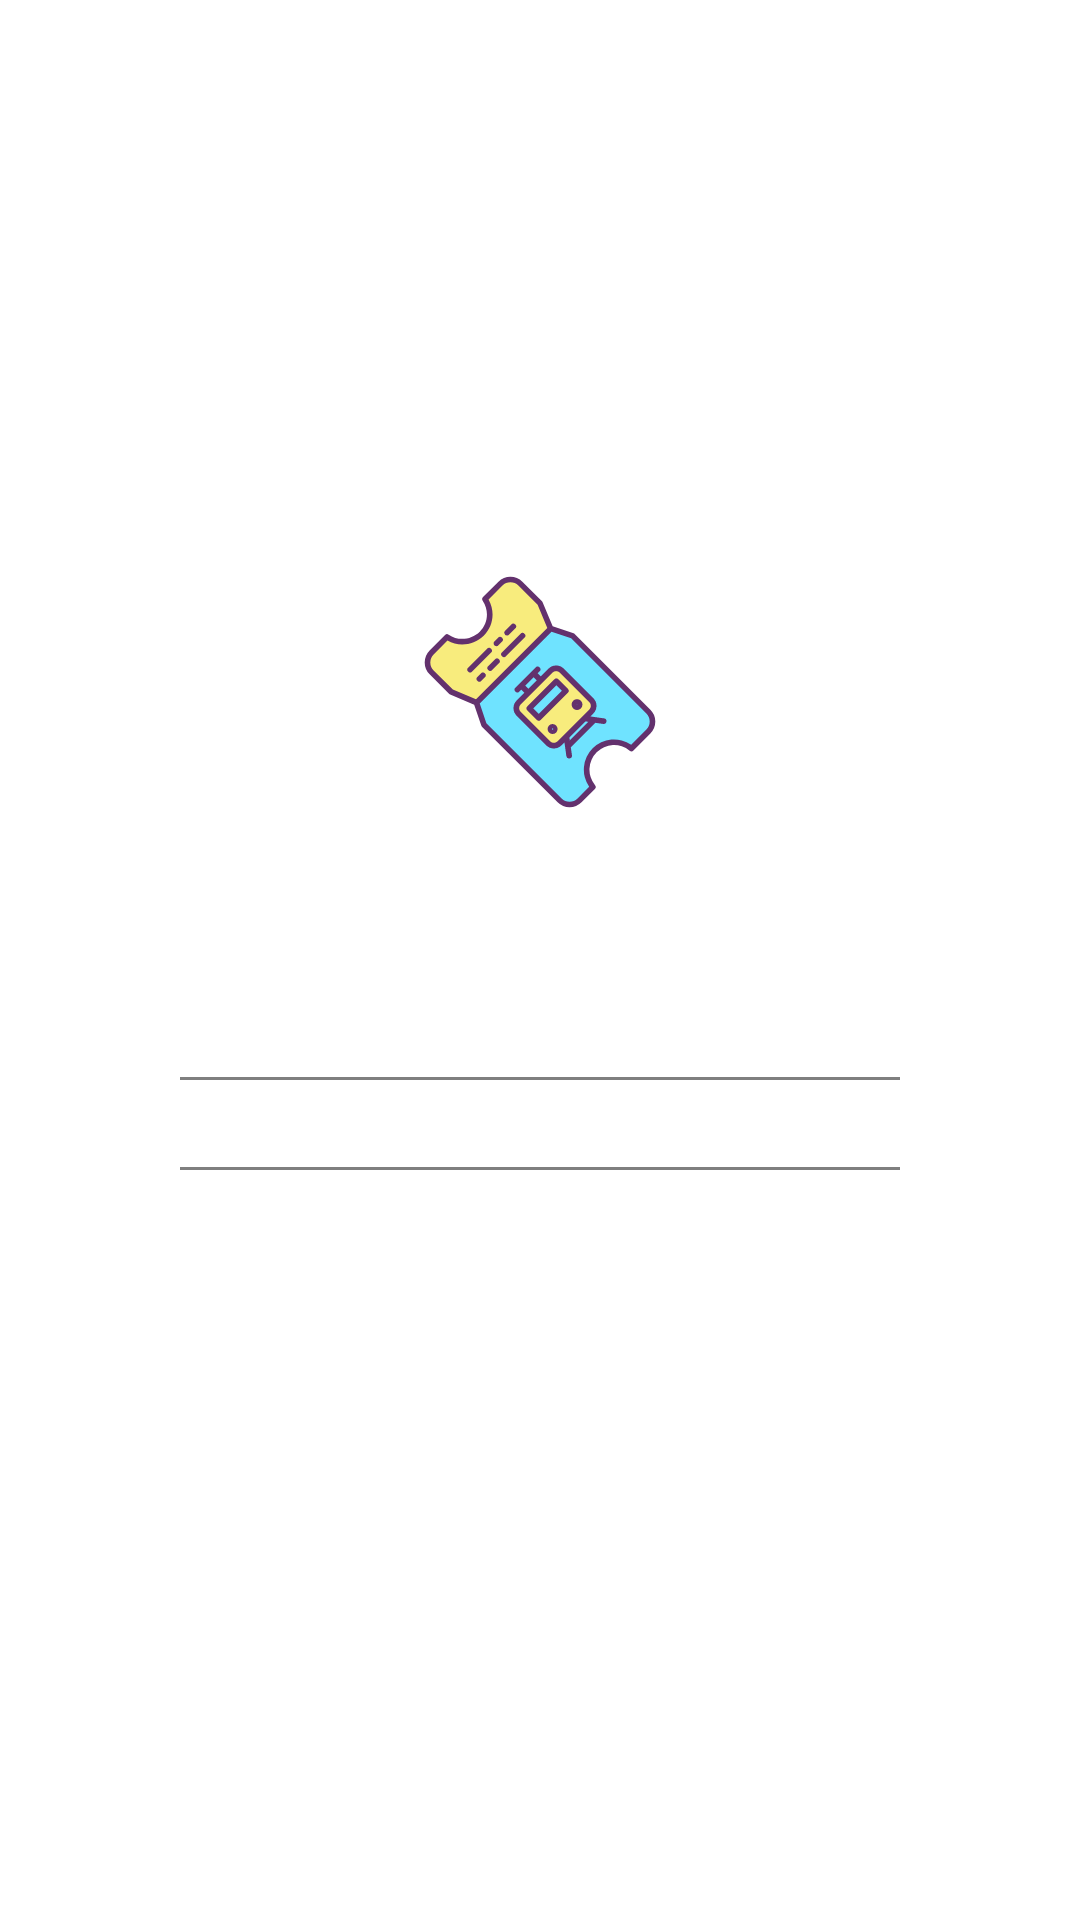

Where icons sit on this 1080 x 1920 app screen, as (x1, y1, x2, y2):
train ticket: (424, 576, 656, 808)
